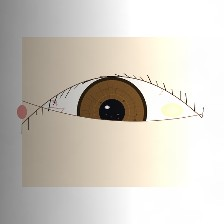pinguecula_lesion: (150, 92, 195, 128)
